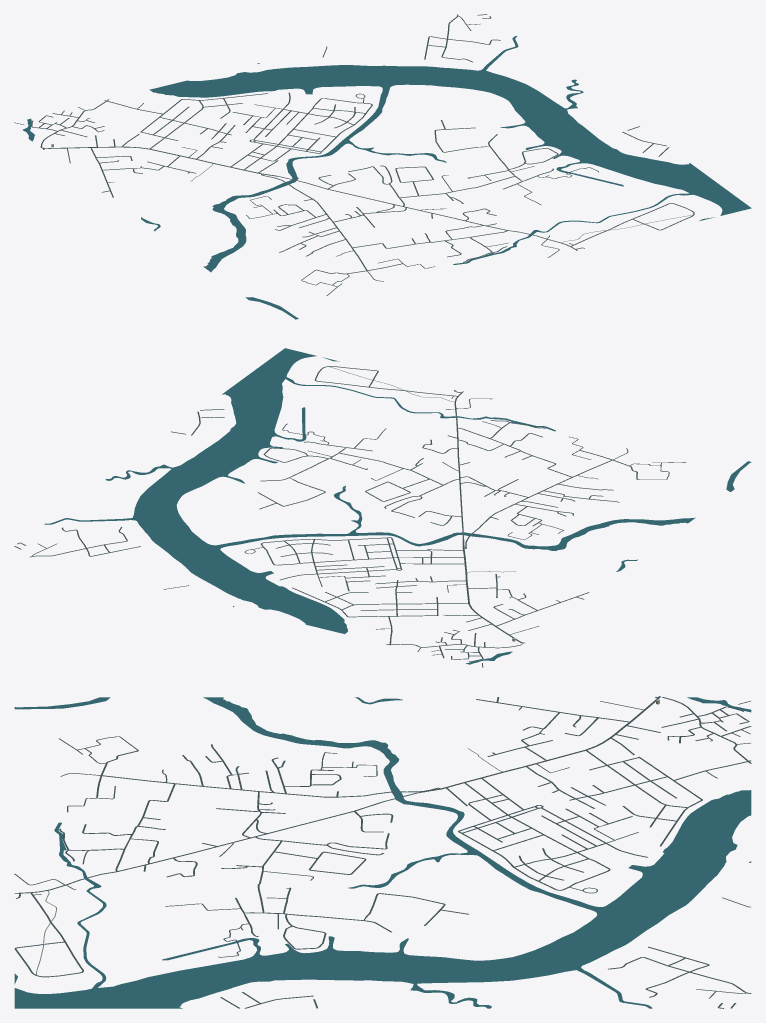
3 renders of one model, top to bottom at view 1: azimuth 30°, elevation 25°; view 2: azimuth 150°, elevation 25°; view 3: azimuth 270°, elevation 25°, orthographic. The views are drawn at different scales.
Visible parts, largest first — view 1: water, street; view 2: water, street; view 3: water, street.
Part boxes in pixels (bbox=[...]): water: bbox=[23, 36, 751, 319]; street: bbox=[14, 14, 694, 295]; water: bbox=[44, 348, 751, 664]; street: bbox=[14, 366, 686, 667]; water: bbox=[14, 697, 751, 1008]; street: bbox=[14, 696, 751, 1008].
Size of the model in its own units: 2005 by 10.7 by 2004.
